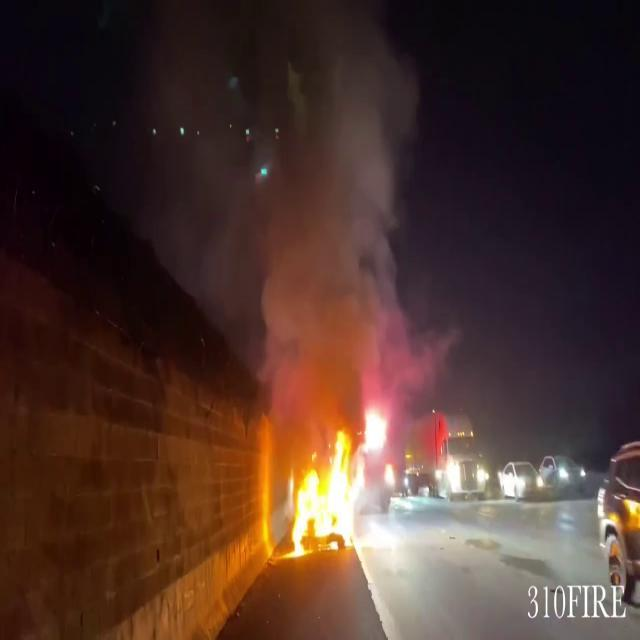Fire: (271, 428, 368, 556)
Smoke: (245, 3, 440, 410)
